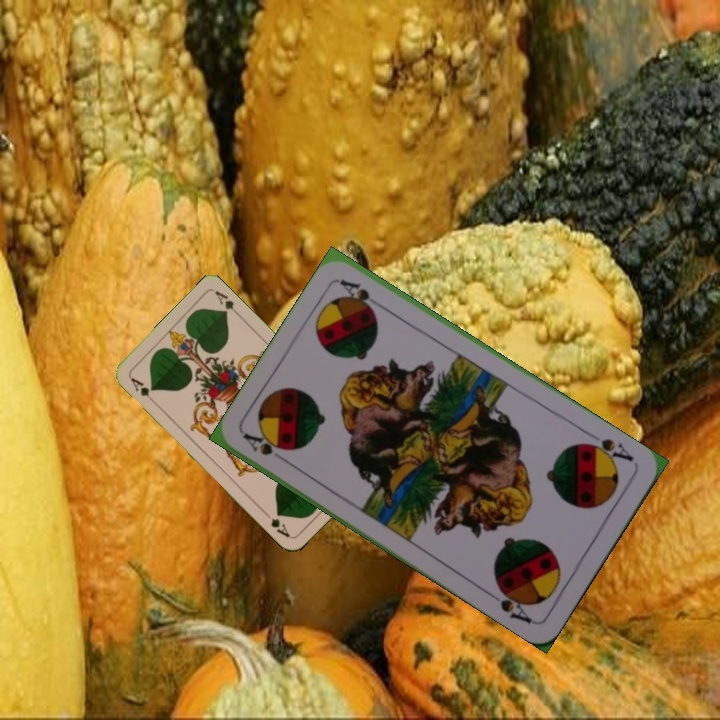GA: (126, 373, 158, 406)
SA: (239, 429, 293, 467), (579, 434, 636, 467)
